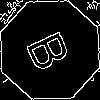B: (25, 25, 80, 74)
